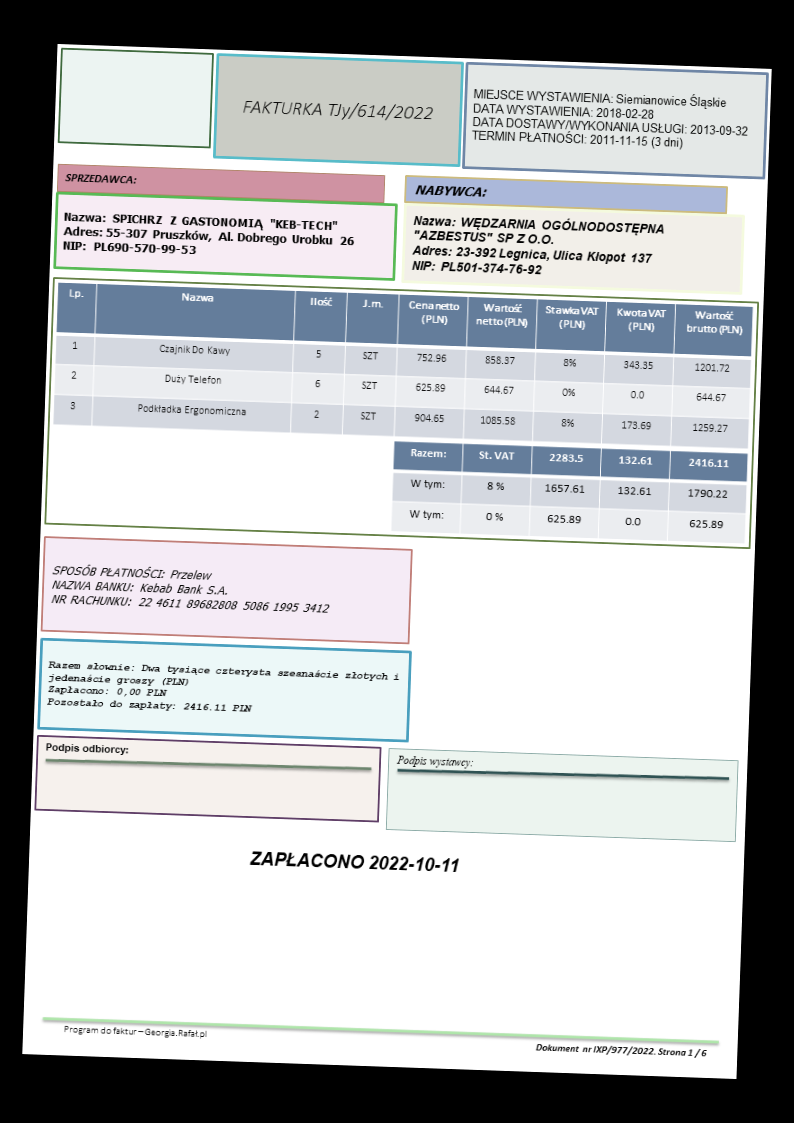Table: (51, 281, 754, 449), (390, 439, 749, 544)
TextBox: (45, 659, 399, 720), (469, 85, 751, 155), (409, 212, 666, 280), (61, 209, 356, 263), (48, 562, 332, 615), (247, 847, 462, 875), (240, 97, 434, 123), (533, 1041, 708, 1060), (61, 1023, 209, 1041), (393, 751, 474, 771), (43, 740, 130, 758), (62, 169, 138, 188), (412, 182, 489, 200)
